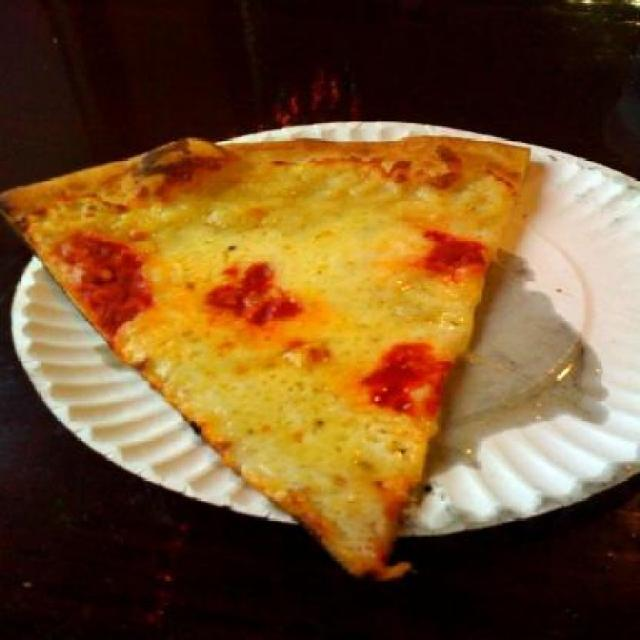Pizza: (13, 123, 581, 577)
